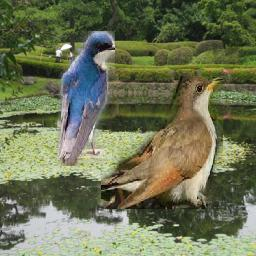Cuckoo: (101, 77, 223, 210)
Swallow: (59, 32, 116, 167)
